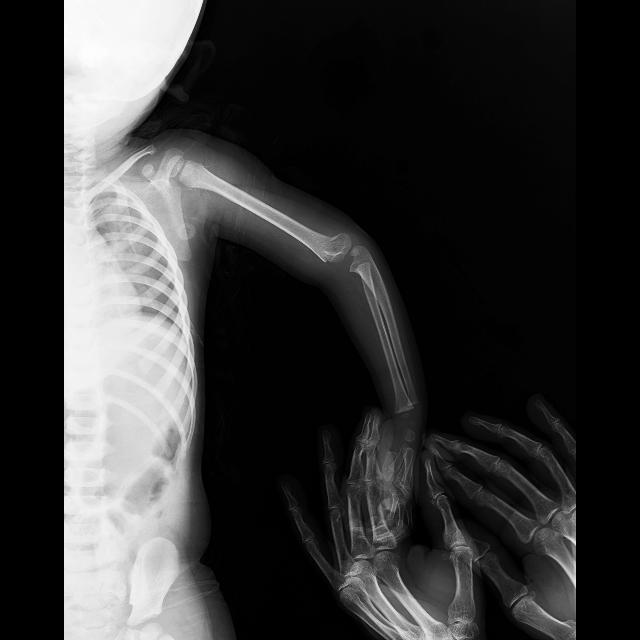Fracture: (315, 249, 346, 271)
